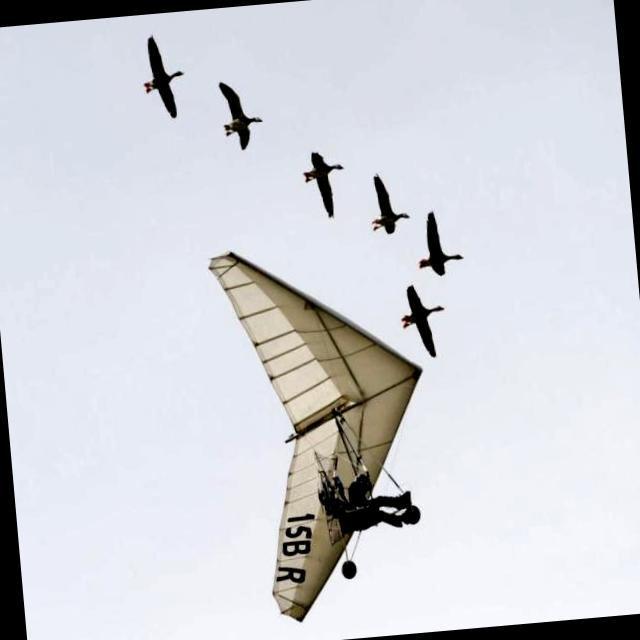bird: (294, 140, 352, 224), (138, 34, 188, 121), (398, 280, 453, 359), (414, 200, 464, 280), (362, 164, 412, 242), (218, 78, 268, 152)
